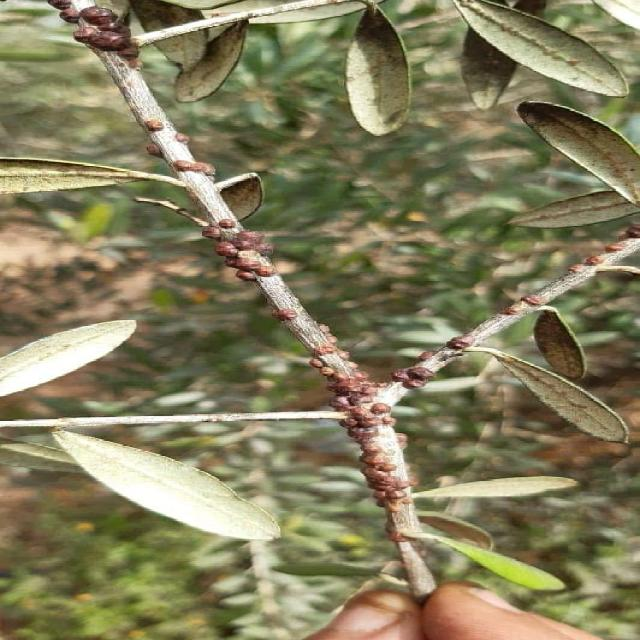Black Scale: (309, 326, 413, 512), (47, 0, 140, 69), (202, 219, 280, 283), (392, 363, 440, 389), (172, 159, 213, 177), (442, 334, 475, 353), (271, 308, 296, 325), (520, 294, 548, 308), (141, 118, 165, 132), (174, 132, 190, 146)
